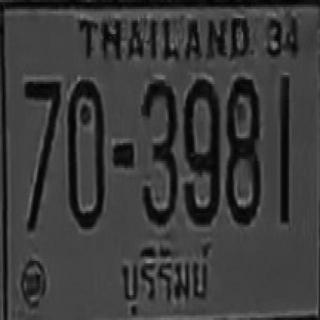N00: (68, 78, 104, 228), (183, 77, 218, 225)
N01: (279, 75, 290, 222)
N03: (141, 78, 176, 226)
N07: (24, 80, 61, 232)
N08: (225, 76, 261, 224)
N09: (184, 77, 219, 222)
P06: (112, 238, 218, 320)
